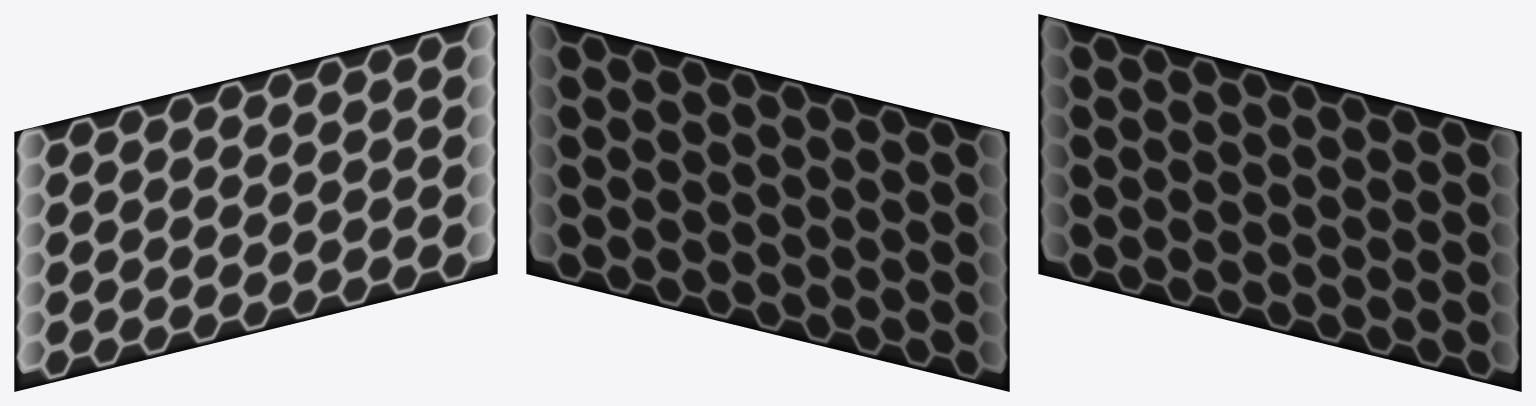
File: FieldXXLarge.FBX
3 views of the same model, side by side, from view 1: azimuth 30°, elevation 25°; view 2: azimuth 150°, elevation 25°; view 3: azimuth 330°, elevation 25° (orthographic).
Parts seen in each view (by area): view 1: ShieldWallFieldXXLarge; view 2: ShieldWallFieldXXLarge; view 3: ShieldWallFieldXXLarge.
Part boxes in pixels (bbox=[...]): ShieldWallFieldXXLarge: bbox=[14, 14, 497, 391]; ShieldWallFieldXXLarge: bbox=[526, 14, 1009, 391]; ShieldWallFieldXXLarge: bbox=[1038, 14, 1521, 391].
Bounding box in the file's own units: 528 × 9.66e-05 × 271.
